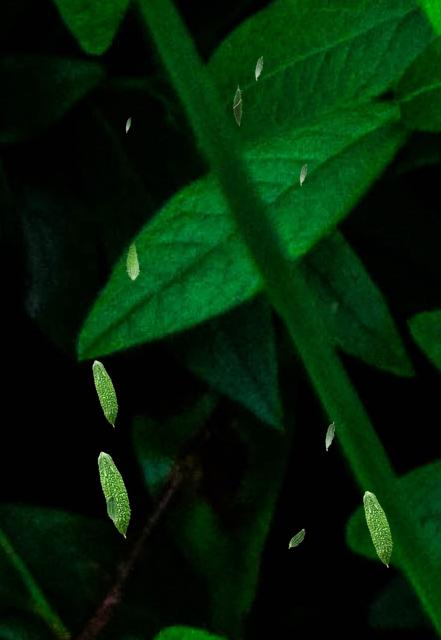ampalaya: (97, 451, 131, 538), (363, 490, 393, 568), (92, 360, 118, 427), (125, 241, 140, 281), (232, 84, 243, 126), (288, 528, 305, 549), (106, 494, 117, 522), (325, 421, 335, 451), (255, 55, 263, 80), (299, 163, 307, 185), (125, 117, 131, 133)
